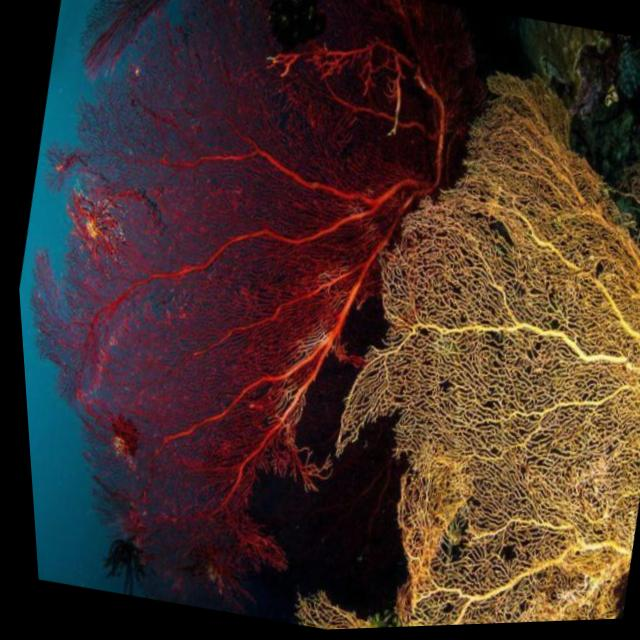Healthy Coral: (1, 0, 400, 608), (271, 3, 640, 632)
